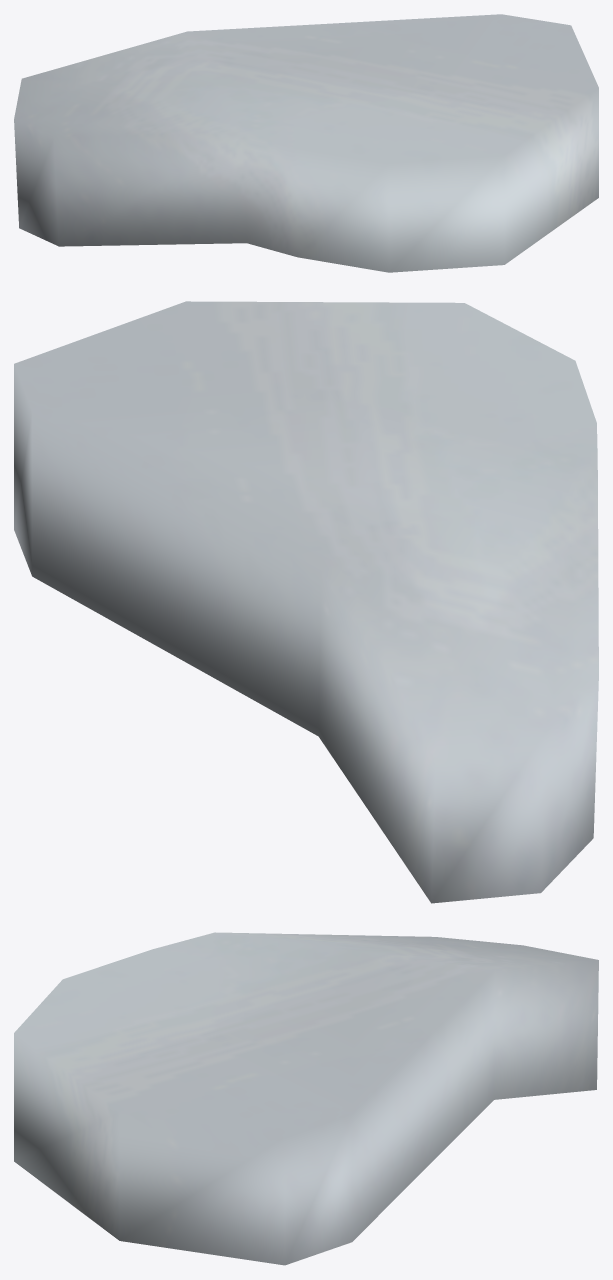
File: Rock_11_Snow.fbx
3 views of the same model, one above another, from view 1: azimuth 30°, elevation 25°; view 2: azimuth 150°, elevation 25°; view 3: azimuth 270°, elevation 25° (orthographic). The views are drawn at different scales.
Parts seen in each view (by area): view 1: Rock_11_Snow; view 2: Rock_11_Snow; view 3: Rock_11_Snow.
Boxes of the visible parts, <box> form: Rock_11_Snow: <box>14,14,598,272</box>; Rock_11_Snow: <box>14,301,598,903</box>; Rock_11_Snow: <box>14,932,598,1265</box>.
Size of the model in its own units: 117 by 41.27 by 112.
